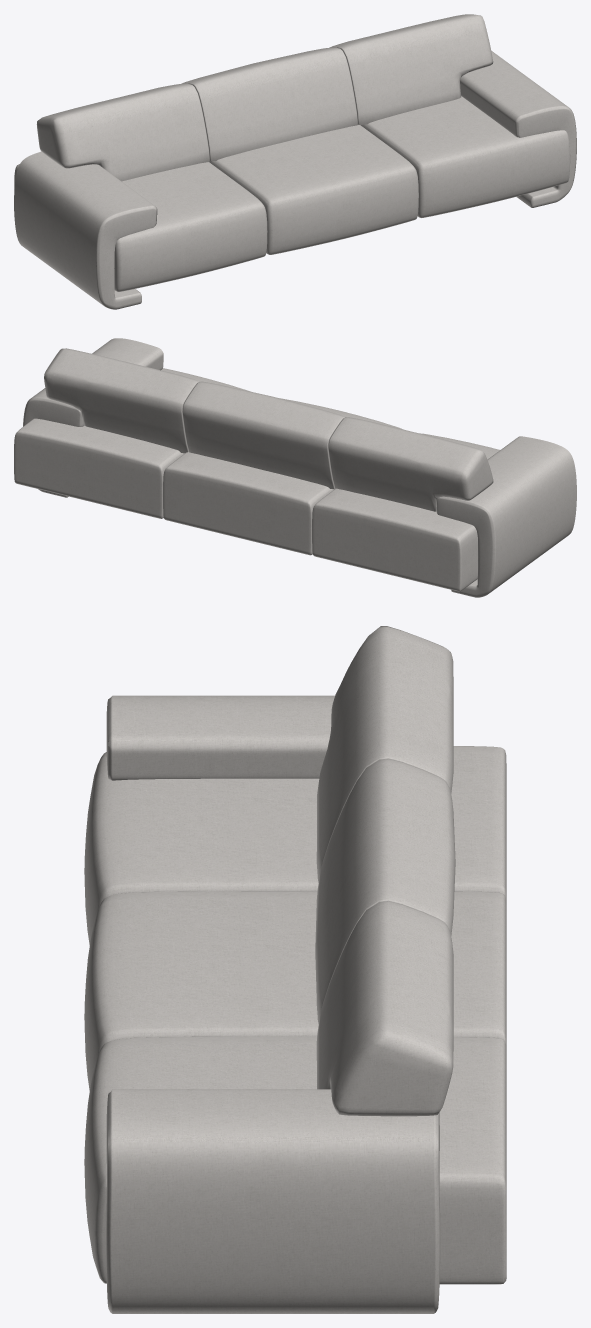
Rendered from shafa01.fbx.
The picture shows the model from 3 angles, top to bottom: view 1: azimuth 30°, elevation 25°; view 2: azimuth 150°, elevation 25°; view 3: azimuth 270°, elevation 25°; orthographic projection. The views are drawn at different scales.
Visible parts, largest first — view 1: shafa01; view 2: shafa01; view 3: shafa01.
Boxes of the visible parts, left/top/right/bottom form: shafa01: left=14, top=14, right=576, bottom=309; shafa01: left=14, top=338, right=576, bottom=597; shafa01: left=84, top=626, right=506, bottom=1313.
Bounding box in the file's own units: 319 × 89.25 × 123.
